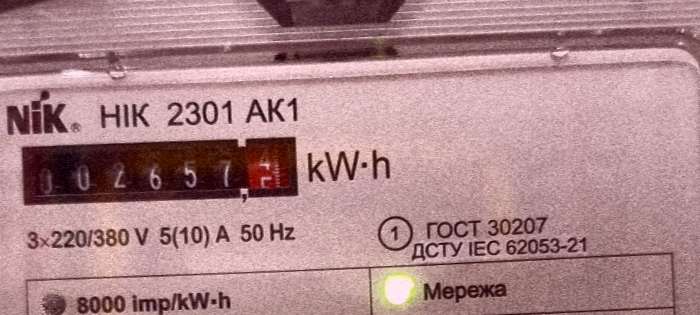0: (37, 163, 56, 192), (75, 159, 92, 190)
2: (111, 157, 129, 187)
4: (257, 142, 274, 168)
5: (183, 155, 200, 187), (259, 171, 275, 186)
6: (148, 158, 164, 188)
7: (219, 154, 235, 187)
screen: (12, 117, 312, 220)
